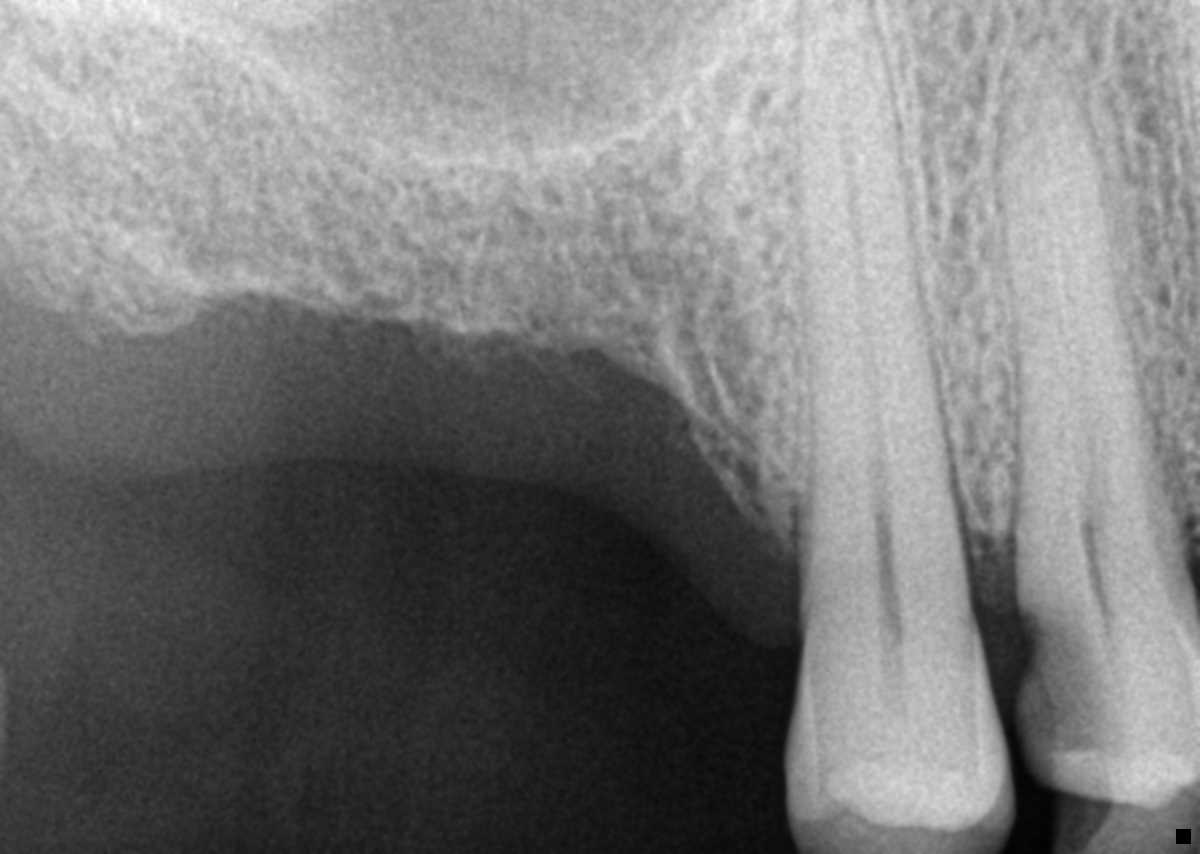Main Canal: (840, 132, 895, 531), (1075, 365, 1104, 563)
Main Root: (996, 33, 1191, 568), (791, 0, 962, 539)
decay: (1020, 608, 1120, 853)
